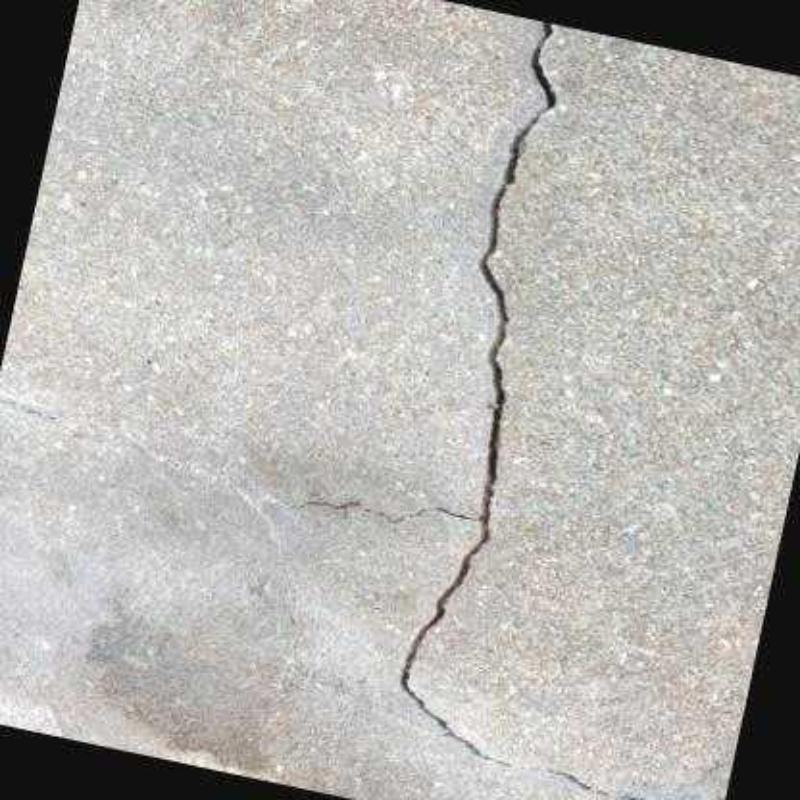pothole: (284, 22, 558, 766), (542, 769, 617, 798)
